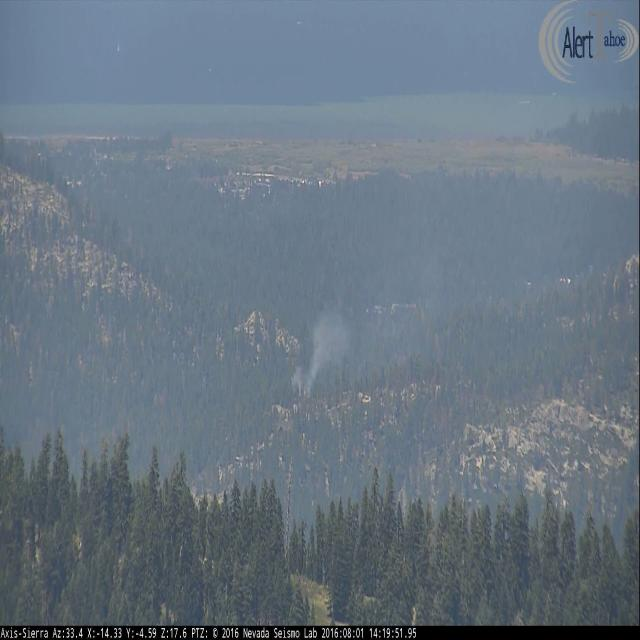smoke: (289, 312, 343, 399)
